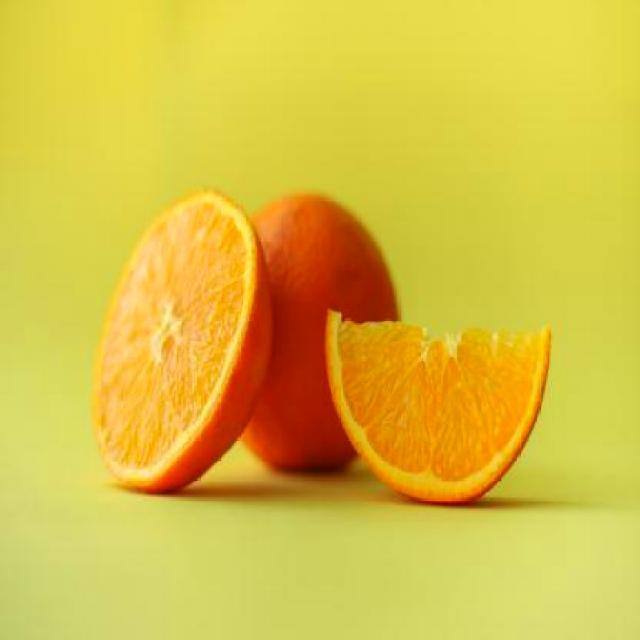Jeruk Sudah Matang: (216, 191, 399, 478)
